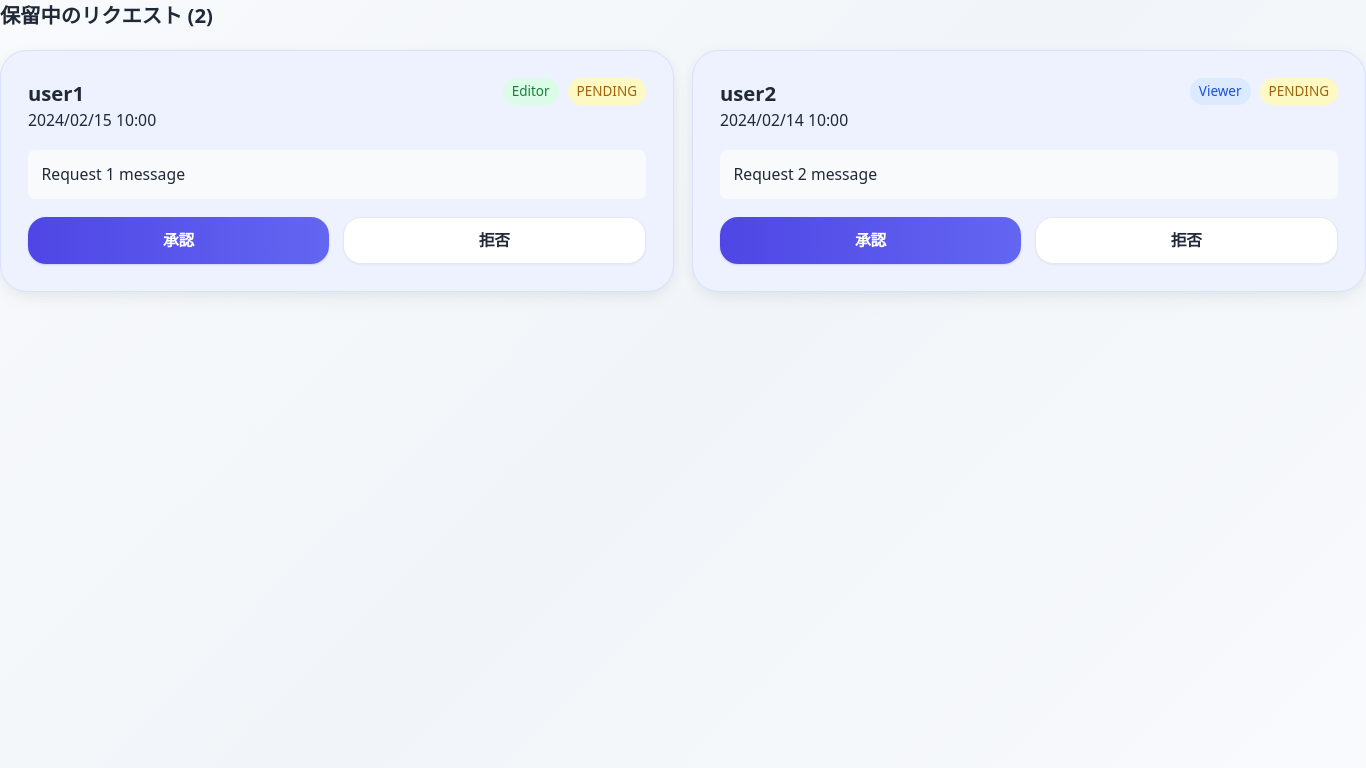
it: AuthRequestList › reject action › should show error message when reject fails
Check: the heading "user1" is shown, box [28, 78, 84, 106]
Click reject button to open modal
Step 1. Click the button "拒否" below "Request 1 message" → (494, 240), box [343, 217, 646, 264]
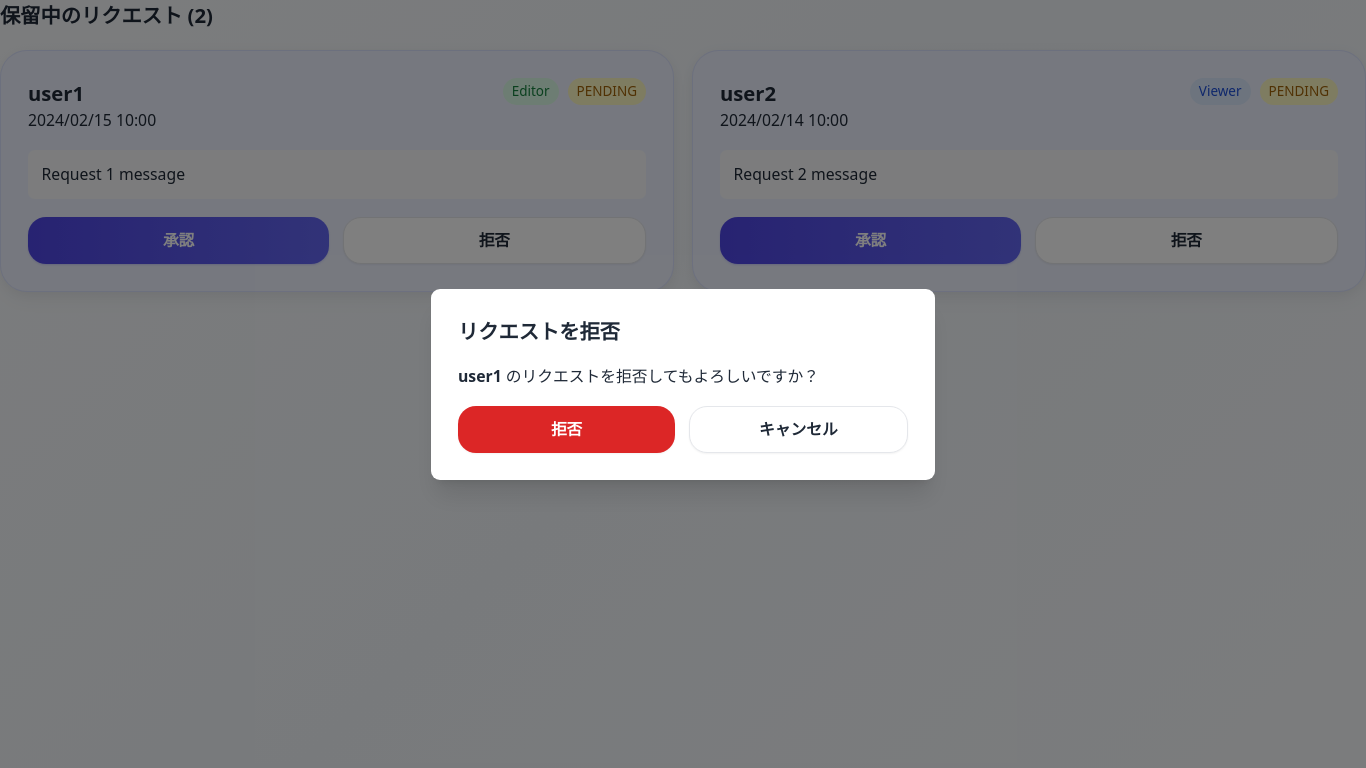
Confirm rejection in modal
Step 2. Click the button "拒否" → (567, 429), box [458, 406, 675, 452]
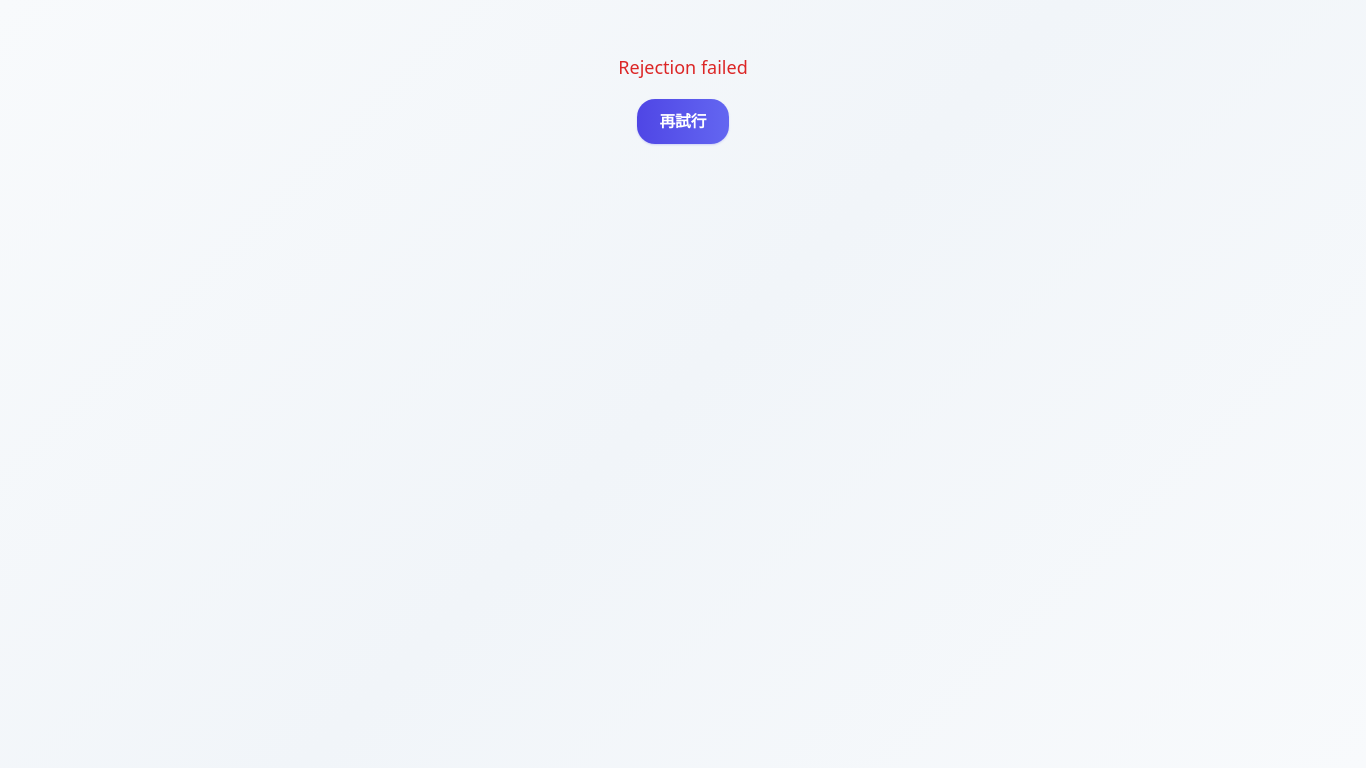
Check: the text "Rejection failed" is shown, box [618, 55, 748, 79]
